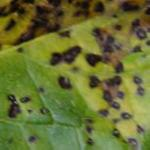Tomato Septoria leaf spot: (0, 3, 149, 150)
